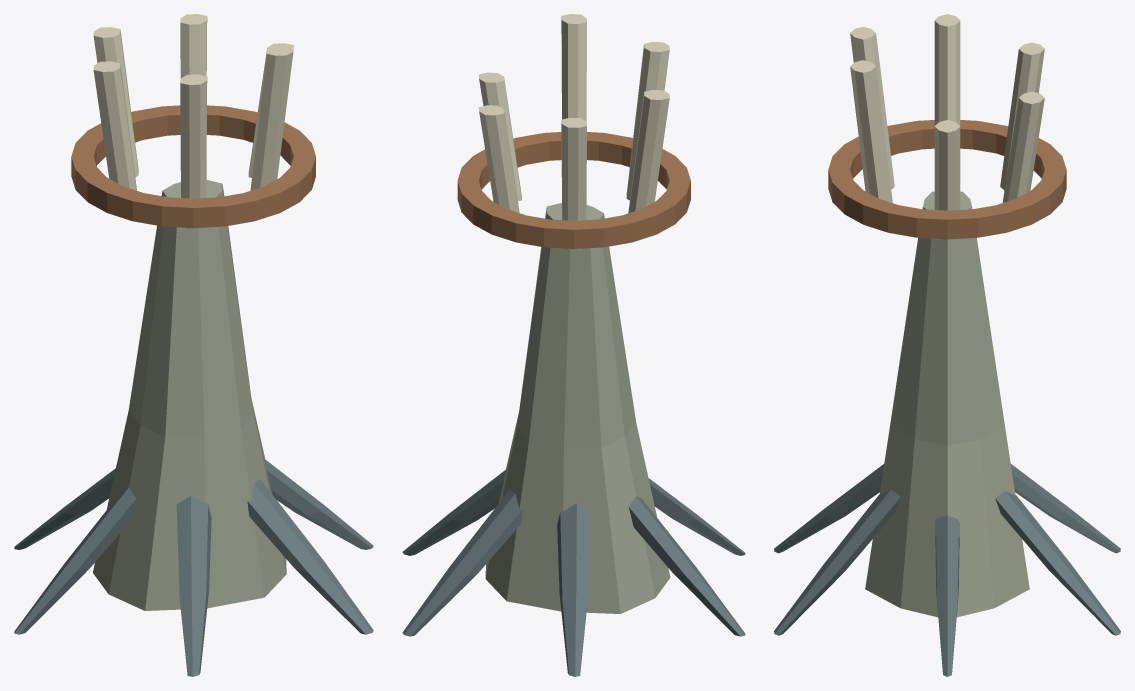
Rendered from briarchoir.fbx.
3 renders of one model, left to right at view 1: azimuth 30°, elevation 25°; view 2: azimuth 150°, elevation 25°; view 3: azimuth 270°, elevation 25°, orthographic. The views are drawn at different scales.
Visible parts, largest first — view 1: root_column, choir_crown, root_4, root_5, pipe_5, root_3, pipe_3, pipe_4, root_0, root_2, pipe_1, pipe_2; view 2: root_column, choir_crown, root_2, root_1, root_3, pipe_3, pipe_5, pipe_2, pipe_1, root_0, pipe_4, root_4 (+1 smaller); view 3: root_column, choir_crown, pipe_5, root_5, root_1, root_0, pipe_3, pipe_1, pipe_0, root_2, root_4, pipe_2 (+1 smaller).
Part boxes in pixels (x1,y1,x2,y2): root_column: (93,180,286,610); choir_crown: (71,105,315,228); root_4: (176,495,211,676); root_5: (247,479,373,634); pipe_5: (250,45,293,190); root_3: (14,487,136,634); pipe_3: (93,61,136,190); pipe_4: (180,74,207,228); root_0: (265,459,373,549); root_2: (14,468,115,549); pipe_1: (180,14,207,78); pipe_2: (93,27,138,177); root_column: (485,203,670,613); choir_crown: (457,132,690,248); root_2: (557,503,590,676); root_1: (402,489,522,636); root_3: (629,496,745,636); pipe_3: (628,90,669,213); pipe_5: (561,14,586,121); pipe_2: (561,117,586,249); pipe_1: (478,105,519,212); root_0: (402,470,505,555); pipe_4: (626,42,669,200); root_4: (648,478,745,555); root_column: (865,191,1029,617); choir_crown: (828,120,1066,239); pipe_5: (850,60,892,202); root_5: (774,490,900,635); root_1: (995,491,1120,635); root_0: (935,515,959,676); pipe_3: (934,14,960,125); pipe_1: (1002,91,1044,202); pipe_0: (934,120,960,240); root_2: (1011,464,1120,553); root_4: (774,464,883,553); pipe_2: (1000,42,1044,190).
Bounding box in the file's own units: 187 × 278 × 160.
